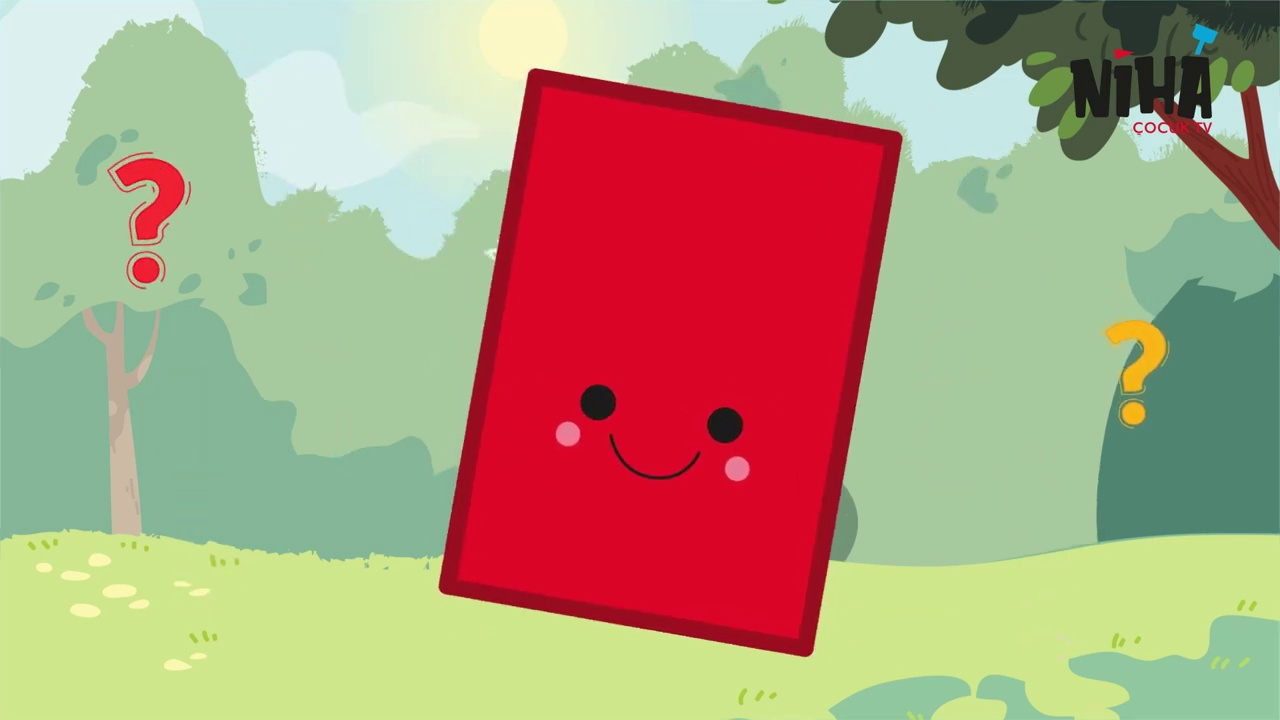dikdortgen: (431, 59, 929, 664)
